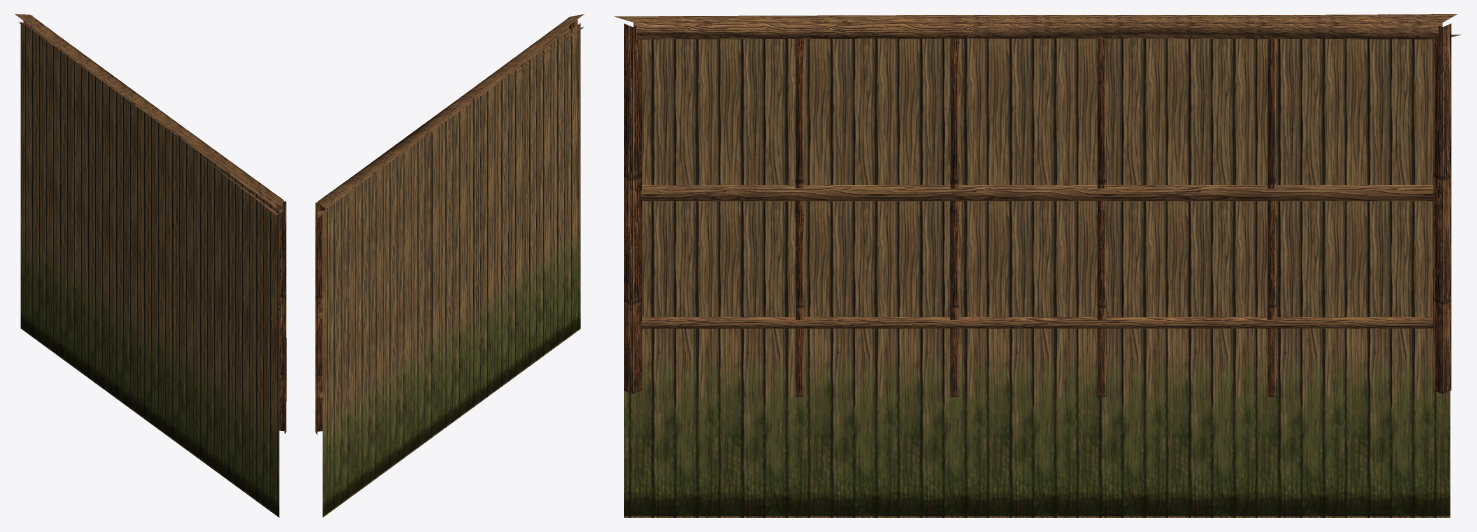
File: LAKETOWN_WAREHOUSE2_PS_WH2_PLATROOM3737__GX.fbx
The picture shows the model from 3 angles, left to right: view 1: azimuth 30°, elevation 25°; view 2: azimuth 150°, elevation 25°; view 3: azimuth 270°, elevation 25°; orthographic projection. The views are drawn at different scales.
Visible parts, largest first — view 1: LAKETOWN_WAREHOUSE2_PS_WH2_PLATROOM3737__GX; view 2: LAKETOWN_WAREHOUSE2_PS_WH2_PLATROOM3737__GX; view 3: LAKETOWN_WAREHOUSE2_PS_WH2_PLATROOM3737__GX.
Boxes of the visible parts, box(x1,y1,x2,y2) form: LAKETOWN_WAREHOUSE2_PS_WH2_PLATROOM3737__GX: box(15, 14, 286, 517); LAKETOWN_WAREHOUSE2_PS_WH2_PLATROOM3737__GX: box(315, 14, 584, 517); LAKETOWN_WAREHOUSE2_PS_WH2_PLATROOM3737__GX: box(614, 14, 1460, 517).
Size of the model in its own units: 6905 by 153127 by 235243.
5 materials, 5 textured.
